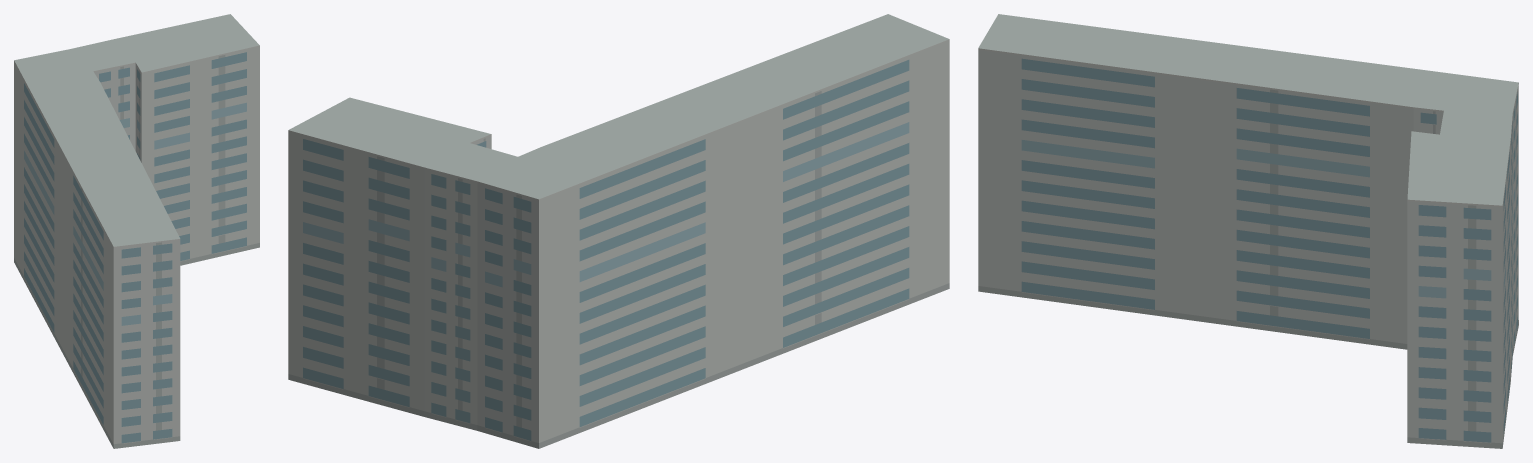
The model's file is residential-e700db65-d1be-428a-a4cd-52c56d6a3490.glb.
3 renders of one model, left to right at view 1: azimuth 30°, elevation 25°; view 2: azimuth 150°, elevation 25°; view 3: azimuth 270°, elevation 25°, orthographic. The views are drawn at different scales.
Visible parts, largest first — view 1: residential-e700db65-d1be-428a-a4cd-52c56d6a3490.tmp; view 2: residential-e700db65-d1be-428a-a4cd-52c56d6a3490.tmp; view 3: residential-e700db65-d1be-428a-a4cd-52c56d6a3490.tmp.
Part boxes in pixels (x1=…): residential-e700db65-d1be-428a-a4cd-52c56d6a3490.tmp: x1=14, y1=14, x2=259, y2=448; residential-e700db65-d1be-428a-a4cd-52c56d6a3490.tmp: x1=288, y1=14, x2=949, y2=448; residential-e700db65-d1be-428a-a4cd-52c56d6a3490.tmp: x1=978, y1=14, x2=1518, y2=448.
Bounding box in the file's own units: 60.84 × 36 × 72.51.
